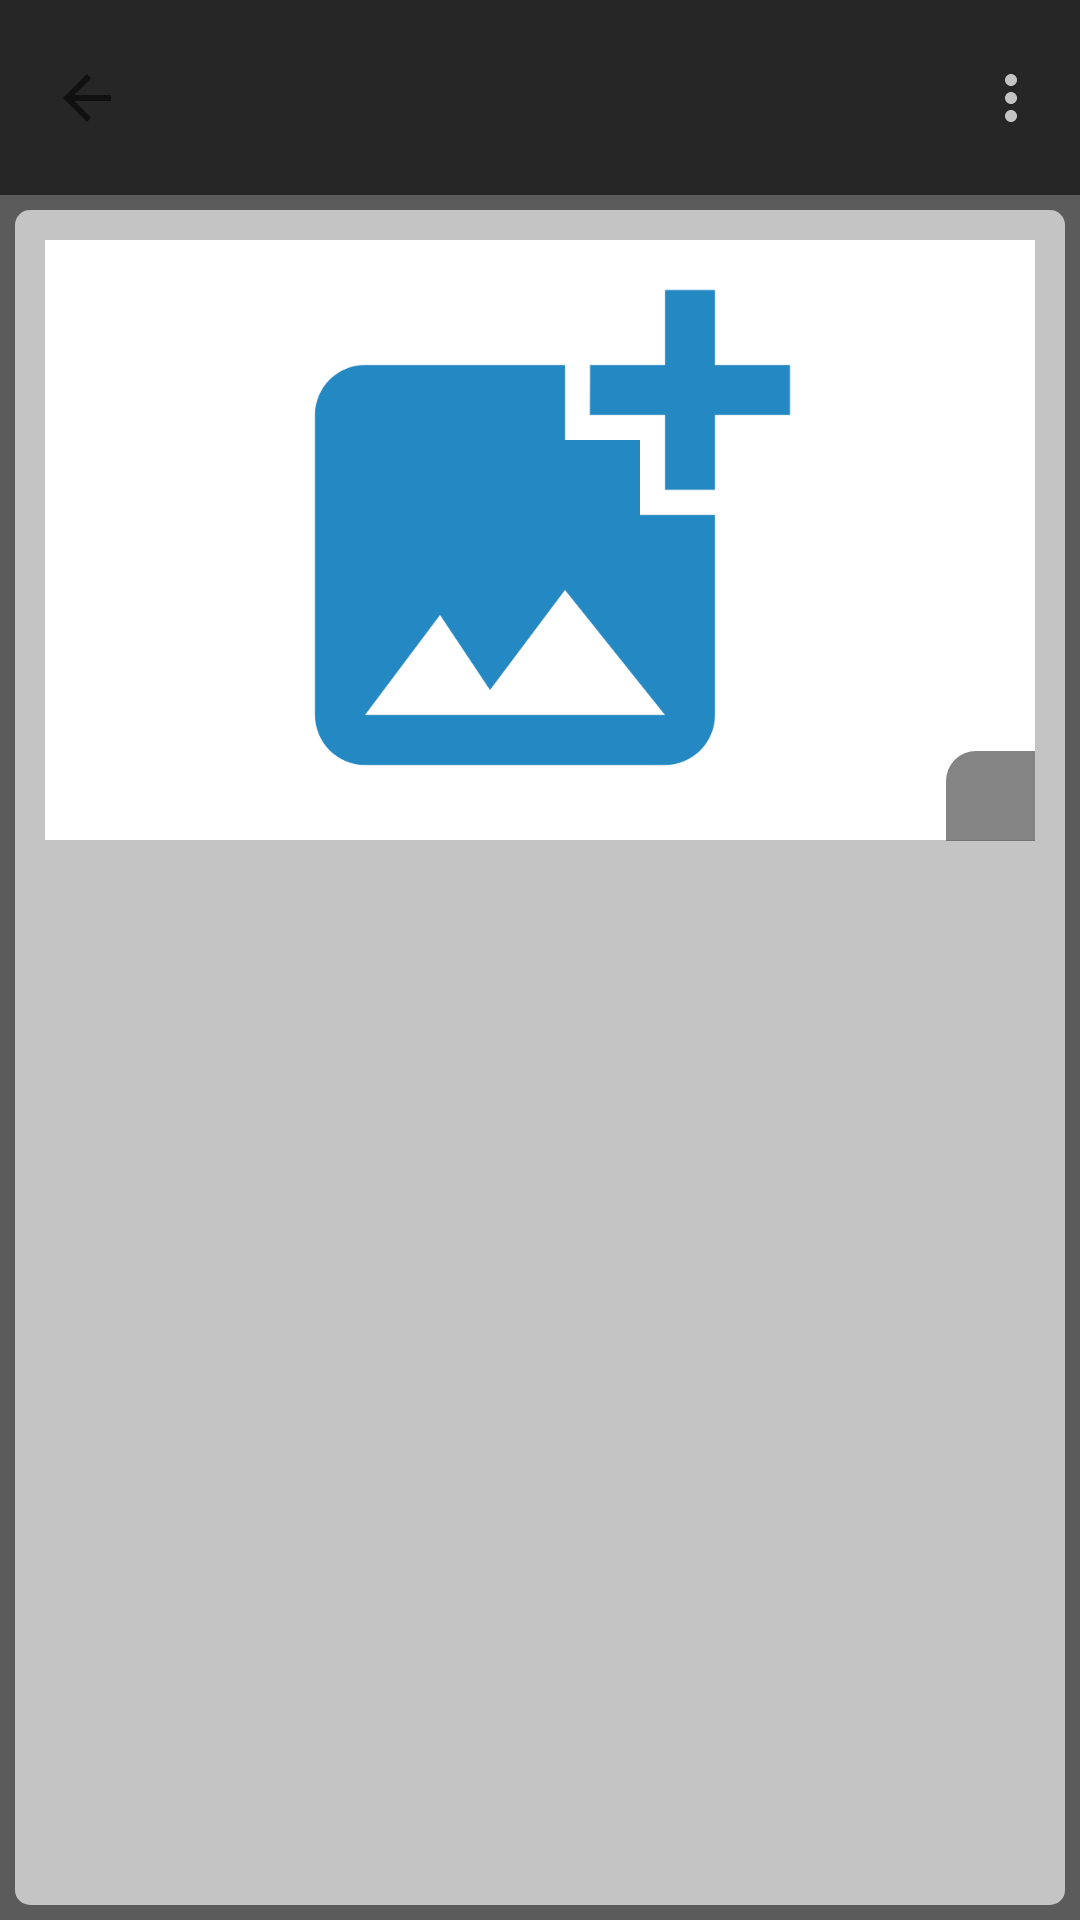

Icon bounding boxes for this 1080 x 1920 phone screenshot, format (x1=x1, y1=y1, x2=x2, y2=y2):
more vert: (x1=1005, y1=74, x2=1017, y2=122)
